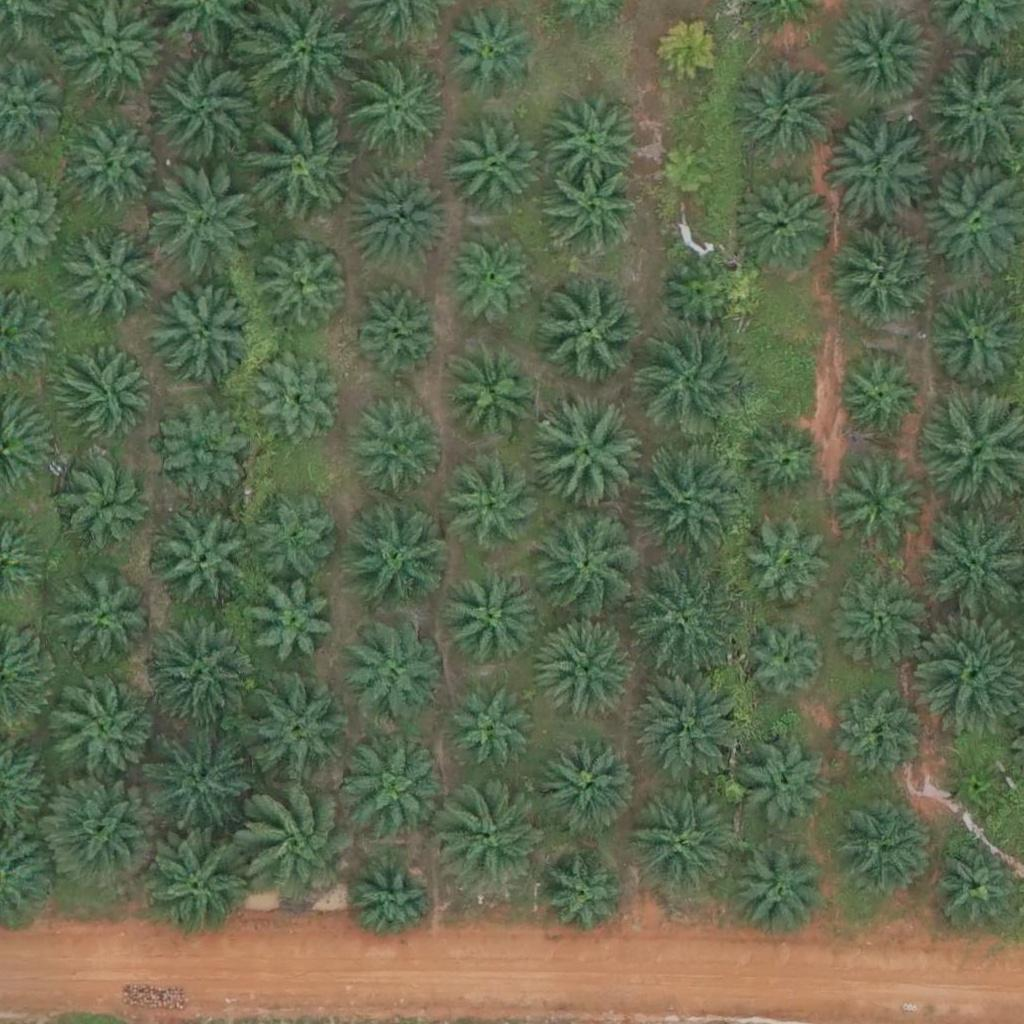Kelapa_Sawit: (238, 785, 363, 911), (729, 52, 842, 166), (636, 445, 749, 559), (533, 273, 646, 387), (827, 118, 940, 231), (526, 401, 639, 514), (148, 53, 261, 166), (142, 622, 255, 735), (142, 723, 255, 836), (138, 830, 251, 943), (624, 786, 736, 900), (147, 170, 259, 284), (639, 324, 751, 437), (627, 564, 739, 677), (635, 676, 747, 789), (529, 508, 641, 621), (439, 782, 551, 895), (241, 109, 353, 222), (238, 674, 350, 787), (47, 778, 159, 891), (828, 5, 928, 106), (841, 228, 941, 329), (835, 799, 935, 900), (742, 169, 842, 270), (729, 843, 829, 944), (542, 89, 642, 190), (540, 734, 640, 835), (436, 2, 536, 103), (443, 118, 543, 219), (443, 342, 543, 443), (445, 459, 545, 560), (441, 570, 541, 671), (349, 58, 449, 159), (346, 391, 446, 492), (345, 510, 445, 611), (342, 619, 442, 720), (254, 231, 354, 332), (154, 286, 254, 387), (158, 515, 258, 616), (59, 228, 159, 329), (51, 348, 151, 449), (56, 448, 156, 549), (52, 680, 152, 781), (539, 617, 639, 717), (345, 173, 445, 273), (347, 742, 447, 842), (150, 398, 250, 498), (446, 240, 534, 329), (836, 574, 924, 662), (745, 525, 833, 613), (741, 619, 829, 707), (659, 254, 747, 342), (551, 169, 639, 257), (541, 857, 629, 945), (351, 284, 439, 372), (933, 840, 1020, 929), (837, 355, 924, 444), (453, 685, 540, 774), (841, 470, 928, 558), (834, 690, 921, 778), (740, 422, 827, 510), (741, 736, 828, 824), (348, 857, 435, 945), (252, 352, 339, 440), (252, 493, 339, 581), (249, 581, 336, 669), (71, 123, 158, 211), (60, 576, 147, 664), (653, 11, 728, 87), (949, 758, 1012, 821), (658, 140, 720, 203)
